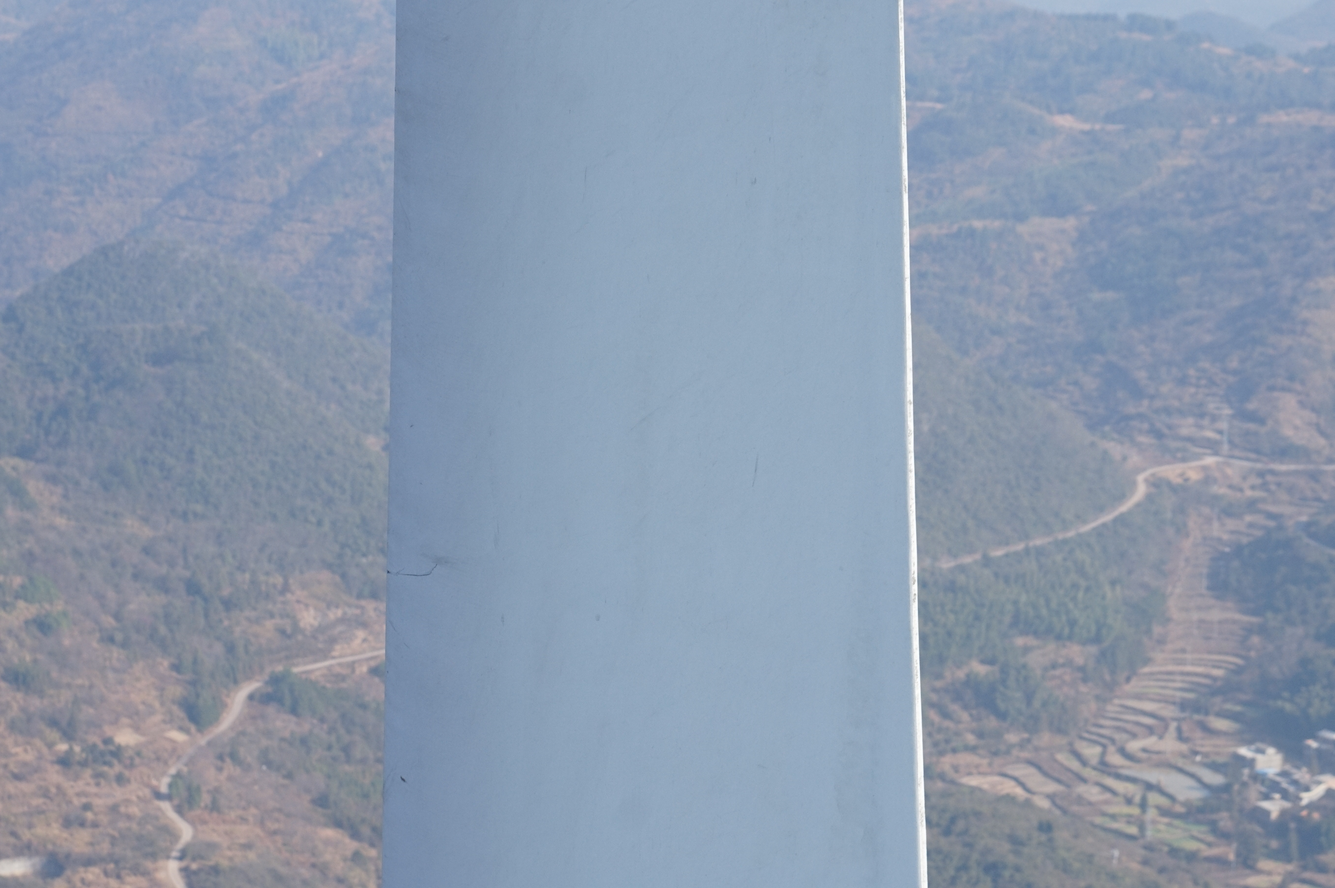Dirt: (389, 563, 438, 576)
